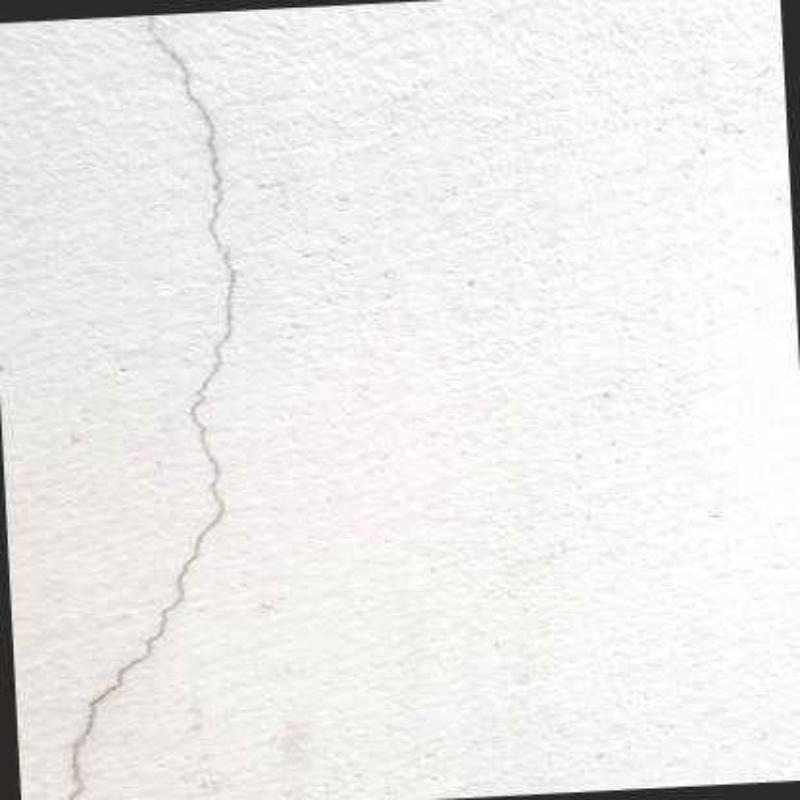pothole: (67, 13, 242, 799)
